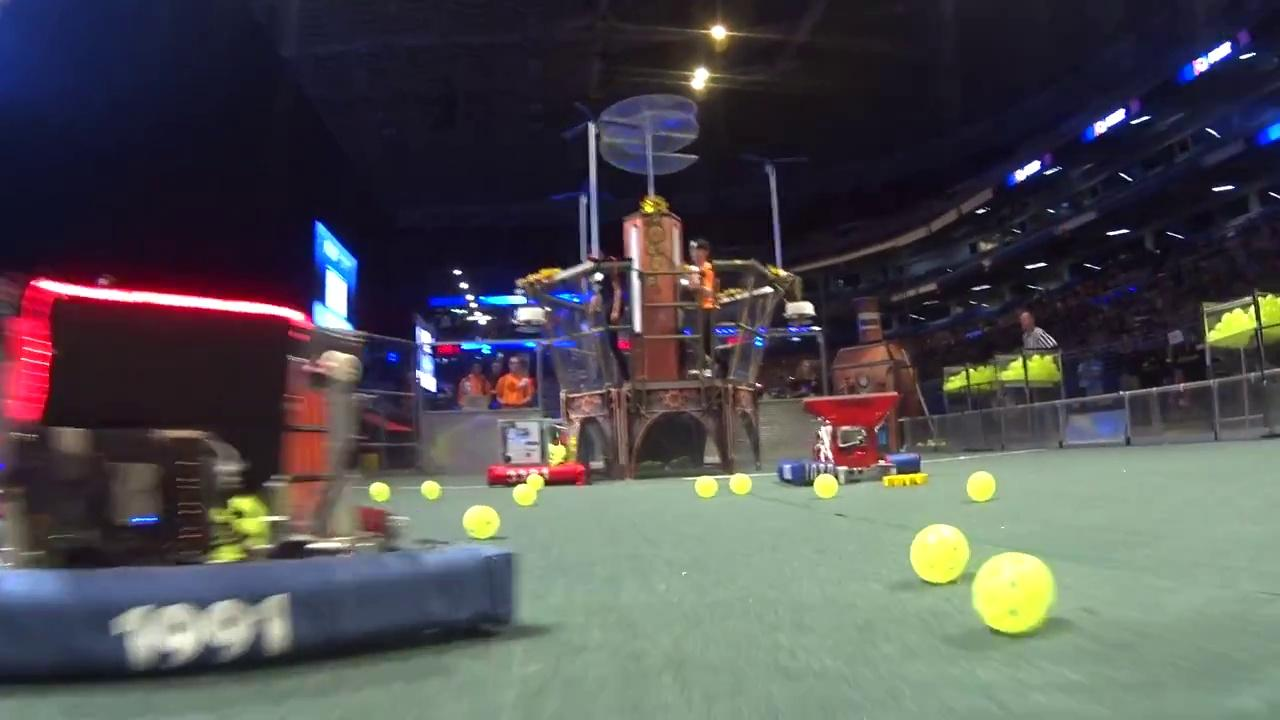robot: (0, 269, 520, 687), (774, 389, 929, 493)
